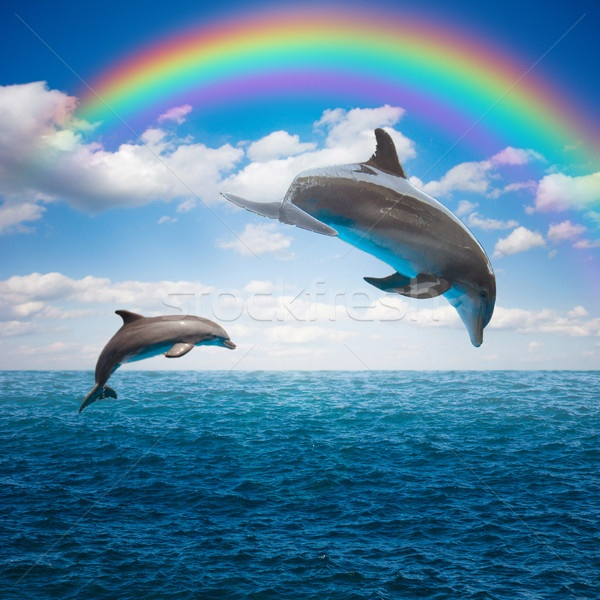fish: (227, 128, 500, 356), (74, 308, 236, 416)
